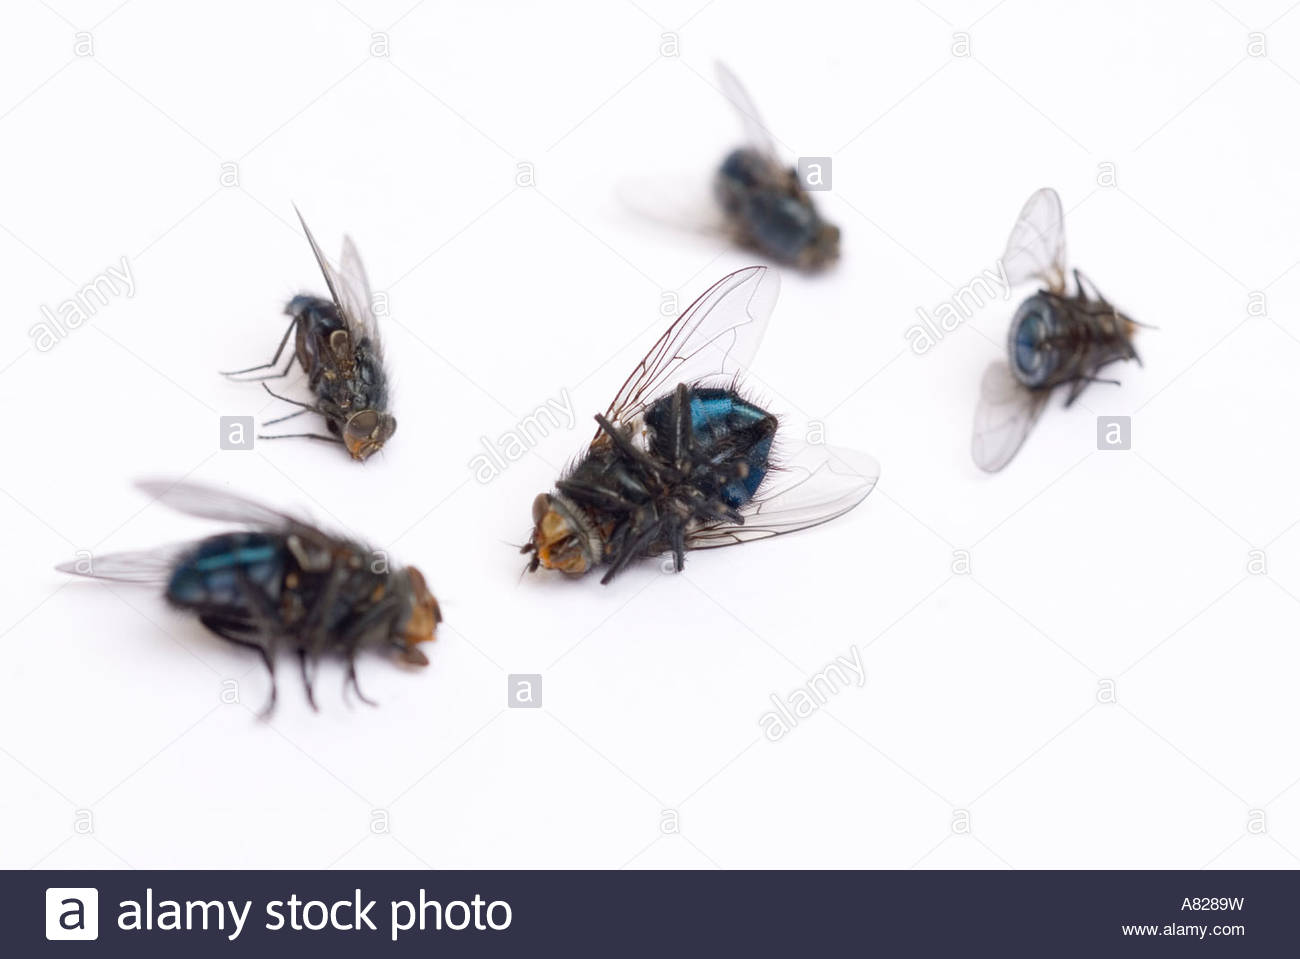house fly: (507, 263, 882, 617), (45, 469, 446, 748), (961, 183, 1164, 485), (217, 196, 412, 466), (629, 62, 851, 286)
